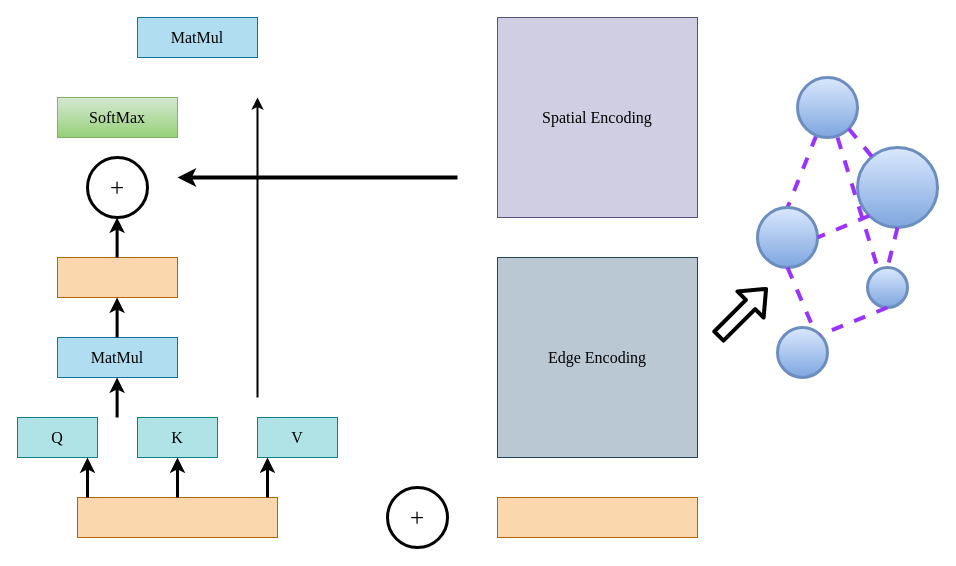
This 956x566 diagram has some shape labels left out. Here are the shapes that lost their labels. From the top down, the box of each, then its label:
(56, 256, 178, 298): Scale
(76, 496, 278, 538): NodeFeature
(496, 496, 698, 538): Centrality Encoding
